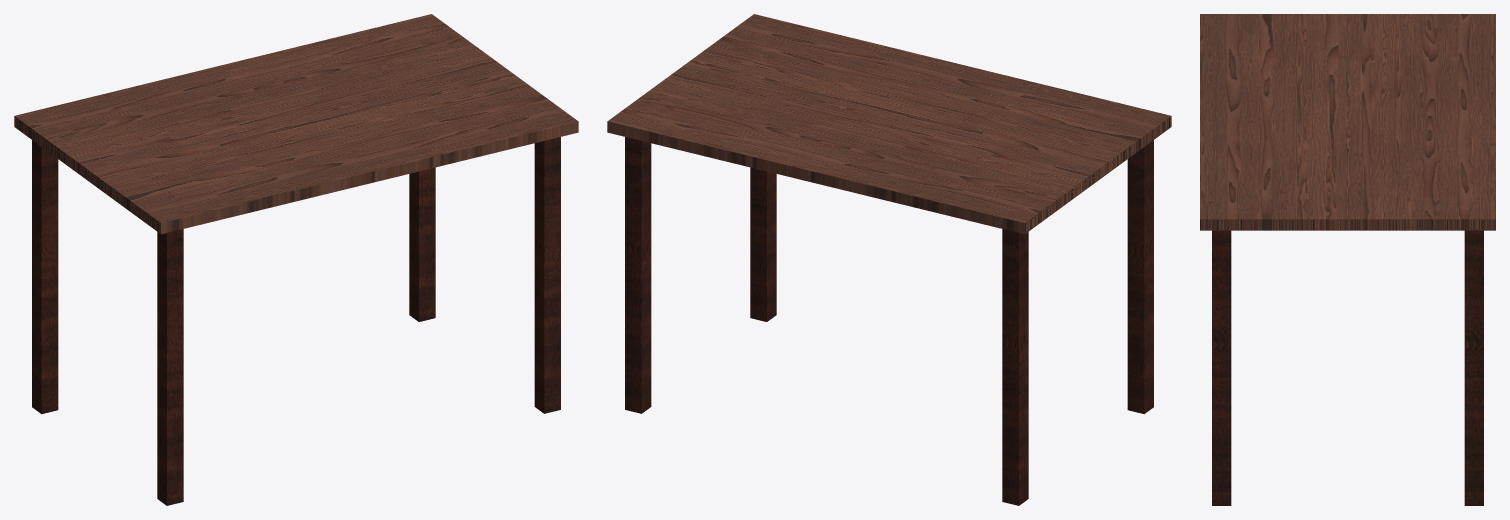
File: Table.fbx
The picture shows the model from 3 angles, left to right: view 1: azimuth 30°, elevation 25°; view 2: azimuth 150°, elevation 25°; view 3: azimuth 270°, elevation 25°; orthographic projection.
Parts seen in each view (by area): view 1: Plane.001, Cube.010, Cube.009, Cube.007, Cube.008; view 2: Plane.001, Cube.007, Cube.008, Cube.010, Cube.009; view 3: Plane.001, Cube.008, Cube.009.
Part boxes in pixels (left/top/right/bottom): Plane.001: left=14, top=14, right=578, bottom=234; Cube.010: left=157, top=229, right=183, bottom=505; Cube.009: left=534, top=137, right=560, bottom=413; Cube.007: left=32, top=140, right=58, bottom=414; Cube.008: left=409, top=167, right=435, bottom=321; Plane.001: left=607, top=14, right=1171, bottom=234; Cube.007: left=1002, top=229, right=1028, bottom=505; Cube.008: left=625, top=137, right=651, bottom=413; Cube.010: left=1127, top=140, right=1153, bottom=414; Cube.009: left=750, top=167, right=776, bottom=321; Plane.001: left=1200, top=14, right=1495, bottom=230; Cube.008: left=1464, top=230, right=1483, bottom=505; Cube.009: left=1212, top=230, right=1231, bottom=505.
Bounding box in the file's own units: 392 × 260 × 239.
2 materials, 2 textured.
